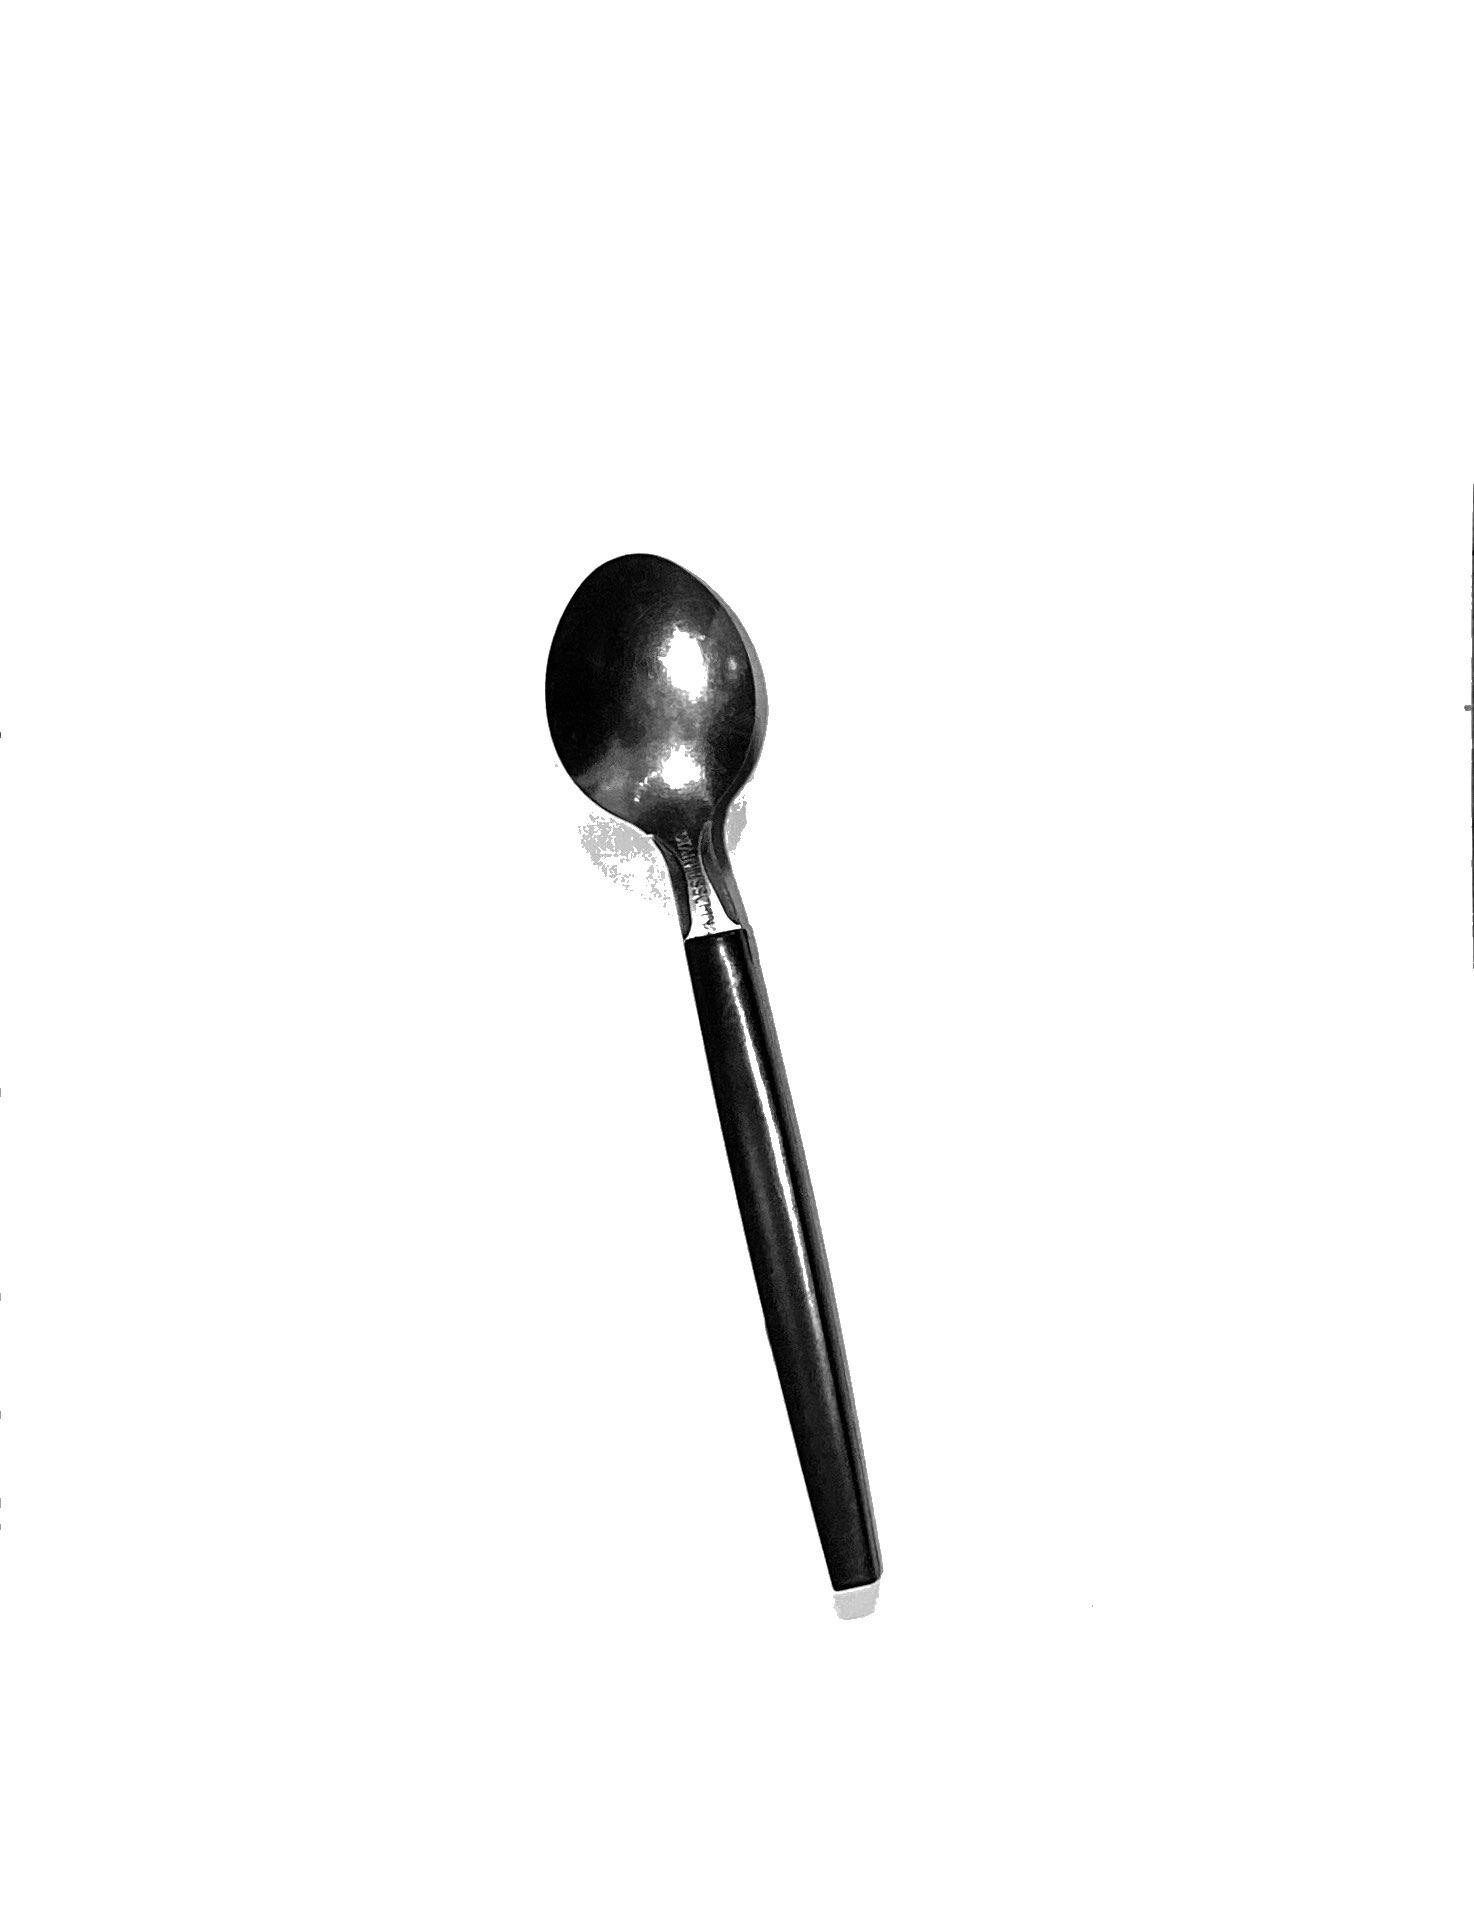Spoon: (472, 498, 1013, 1815)
